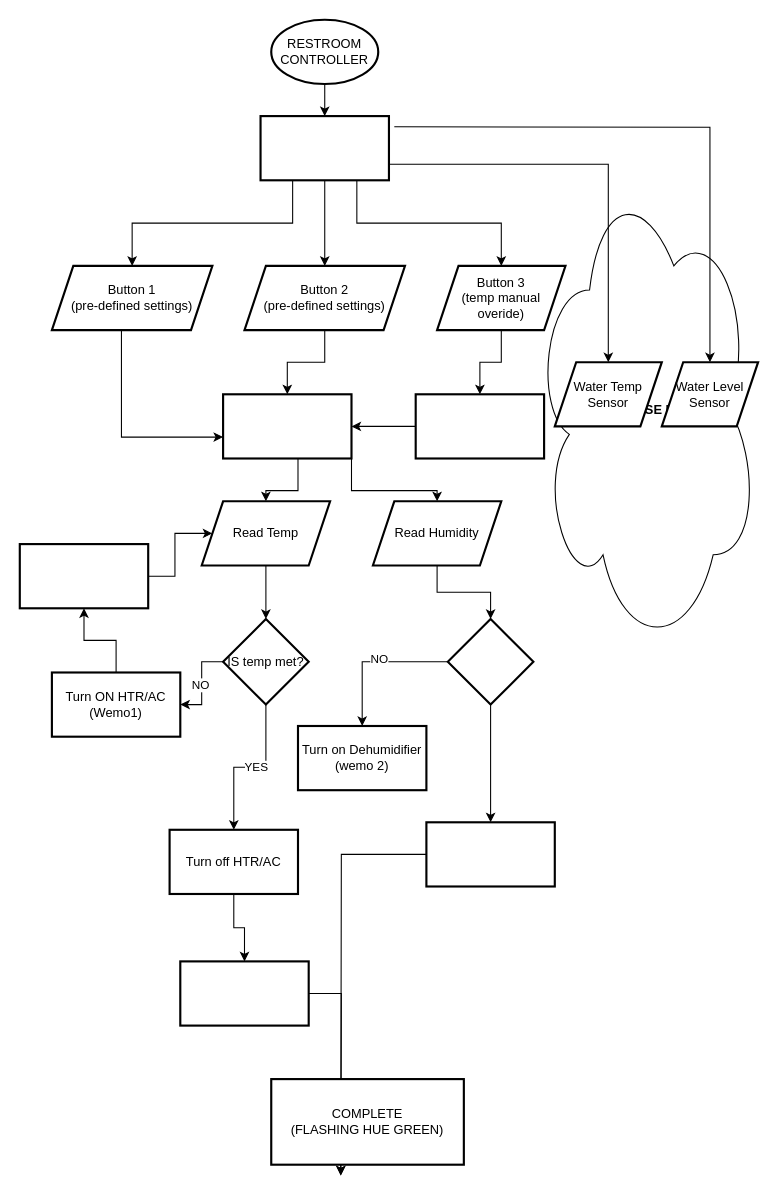
Some shapes in this 777 by 1203 pixel diagram are drawn without their labels. The shapes that lost their labels are listed below. From the top down, each one's centre as x and y in pixels, then its label:
At [324,147]: "Display Room Condition".
At [286,426]: "Display user selected/overide (OLED)".
At [479,426]: "Neopixels +/- depending on manual setting".
At [83,575]: "Turn on HUE 1 dim".
At [490,661]: "IS humidity met?".
At [490,854]: "Turn off dehumidifier".
At [244,993]: "Change HUE1 full brightness color red/blue".
